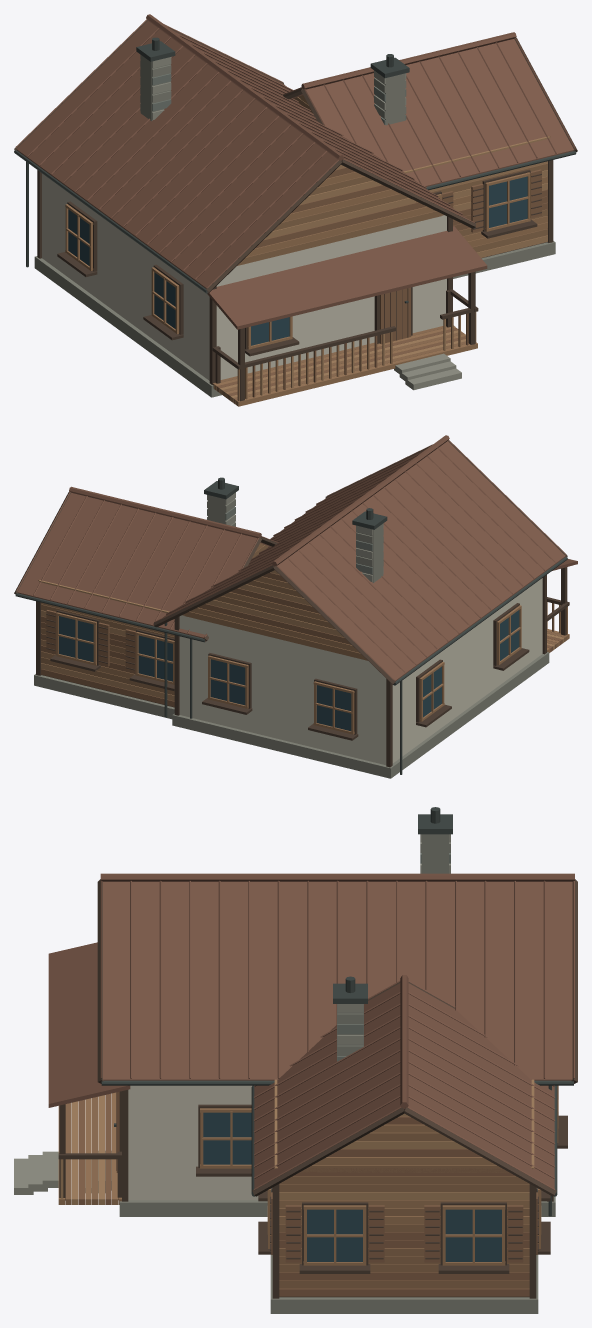
File: 04_casa_en_l.glb
3 renders of one model, top to bottom at view 1: azimuth 30°, elevation 25°; view 2: azimuth 150°, elevation 25°; view 3: azimuth 270°, elevation 25°, orthographic. The views are drawn at different scales.
Parts seen in each view (by area): view 1: 04_casa_en_l; view 2: 04_casa_en_l; view 3: 04_casa_en_l.
Boxes of the visible parts, left/top/right/bottom form: 04_casa_en_l: left=14, top=14, right=577, bottom=406; 04_casa_en_l: left=14, top=435, right=577, bottom=778; 04_casa_en_l: left=14, top=807, right=577, bottom=1313.
Bounding box in the file's own units: 12.5 × 6.8 × 11.41.
